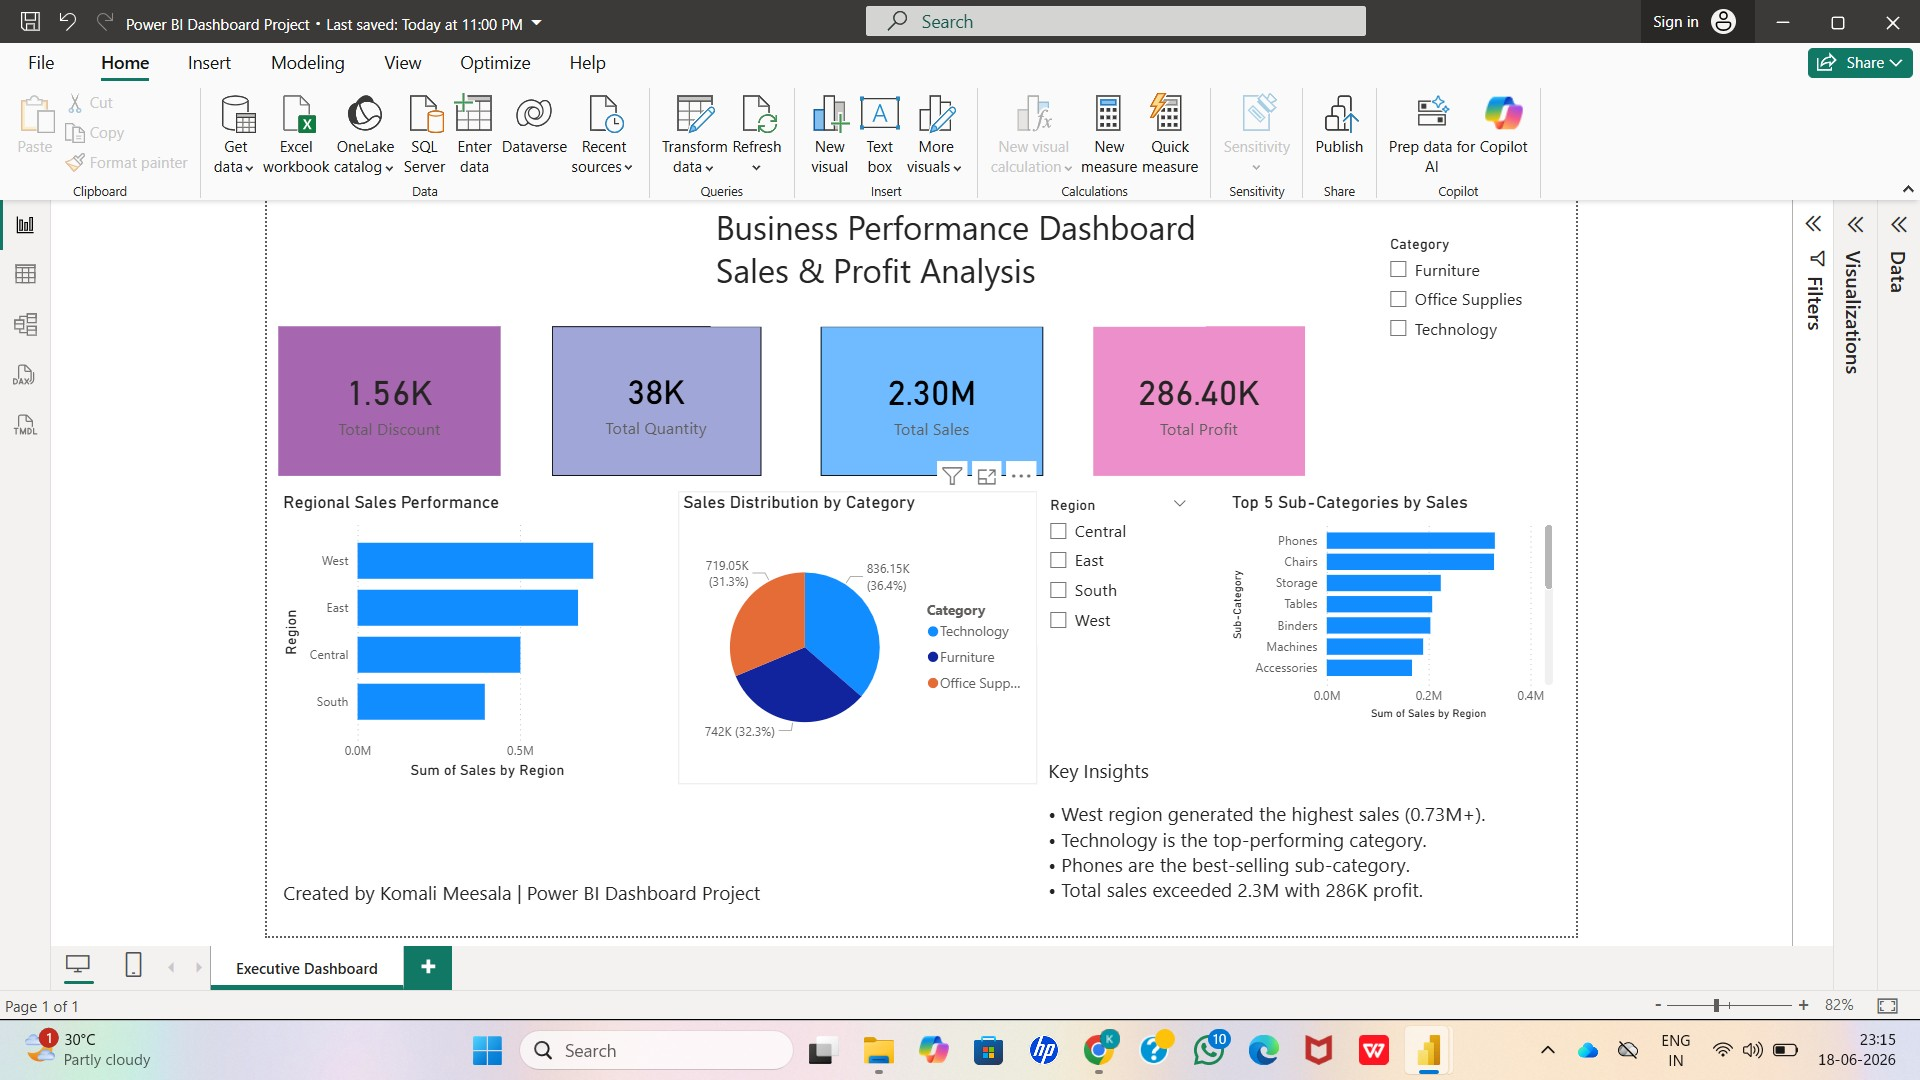

Layout of this report page (visuals, bound fields, positions):
{"tool":"powerbi","page":{"name":"Executive Dashboard","canvas":[1280,720],"ordinal":0},"visuals":[{"type":"card","fields":{"Values":["SampleSuperstore.Total Quantity"]},"box":[278.4,123.7,204.4,146.6],"z":0},{"type":"card","fields":{"Values":["SampleSuperstore.Total Discount"]},"box":[10.8,123.7,217.9,146.6],"z":1000},{"type":"card","fields":{"Values":["SampleSuperstore.Total Sales"]},"box":[542,123.7,217.9,146.6],"z":2000},{"type":"clusteredBarChart","title":"Regional Sales Performance","fields":{"Category":["SampleSuperstore.Region"],"Y":["Sum(SampleSuperstore.Sales)"]},"box":[10.8,285.1,351,286.4],"z":3000},{"type":"pieChart","title":"Sales Distribution by Category","fields":{"Category":["SampleSuperstore.Category"],"Y":["Sum(SampleSuperstore.Sales)"]},"box":[402.1,285.1,351,286.4],"z":4000},{"type":"clusteredBarChart","title":"Top 5 Sub-Categories by Sales","fields":{"Category":["SampleSuperstore.Sub-Category"],"Y":["Sum(SampleSuperstore.Sales)"]},"box":[938.7,285.1,324.1,228.6],"z":5000},{"type":"slicer","fields":{"Values":["SampleSuperstore.Region"]},"box":[753.1,285.1,158.7,150.6],"z":6000},{"type":"slicer","fields":{"Values":["SampleSuperstore.Category"]},"box":[1085.3,29.6,177.5,168.1],"z":7000},{"type":"card","fields":{"Values":["SampleSuperstore.Total Profit"]},"box":[808.2,123.7,207.1,146.6],"z":8000},{"type":"textbox","box":[434.4,0,484.1,123.7],"z":9000},{"type":"textbox","box":[759.8,540.6,442.4,169.4],"z":9001},{"type":"textbox","box":[10.8,660.3,546,49.8],"z":9002}]}

Visuals, with their boxes on the page's 1280x720 design canvas (x1, y1, x2, y2). These are canvas units, not pixel positions in the 1920x1080 screenshot, which may show the page scaled, cropped or inside an application window:
card - SampleSuperstore.Total Quantity: region(278, 124, 483, 270)
card - SampleSuperstore.Total Discount: region(11, 124, 229, 270)
card - SampleSuperstore.Total Sales: region(542, 124, 760, 270)
"Regional Sales Performance" clusteredBarChart: region(11, 285, 362, 572)
"Sales Distribution by Category" pieChart: region(402, 285, 753, 572)
"Top 5 Sub-Categories by Sales" clusteredBarChart: region(939, 285, 1263, 514)
slicer - SampleSuperstore.Region: region(753, 285, 912, 436)
slicer - SampleSuperstore.Category: region(1085, 30, 1263, 198)
card - SampleSuperstore.Total Profit: region(808, 124, 1015, 270)
textbox: region(434, 0, 918, 124)
textbox: region(760, 541, 1202, 710)
textbox: region(11, 660, 557, 710)
